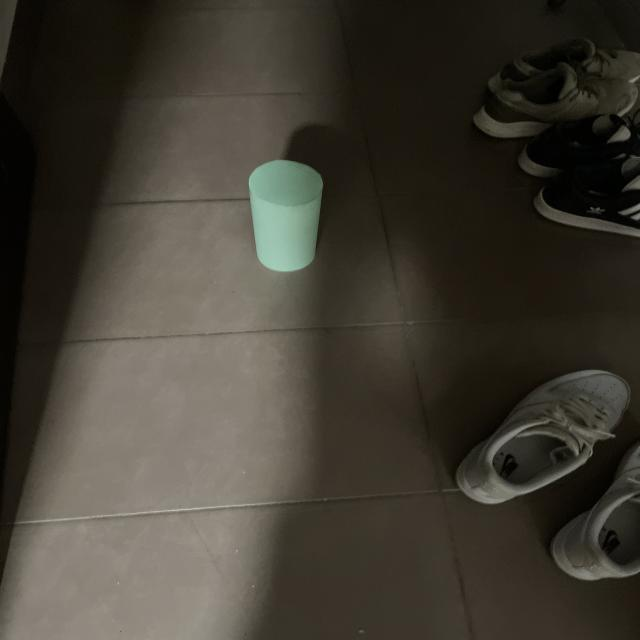meta: (248, 160, 323, 272)
